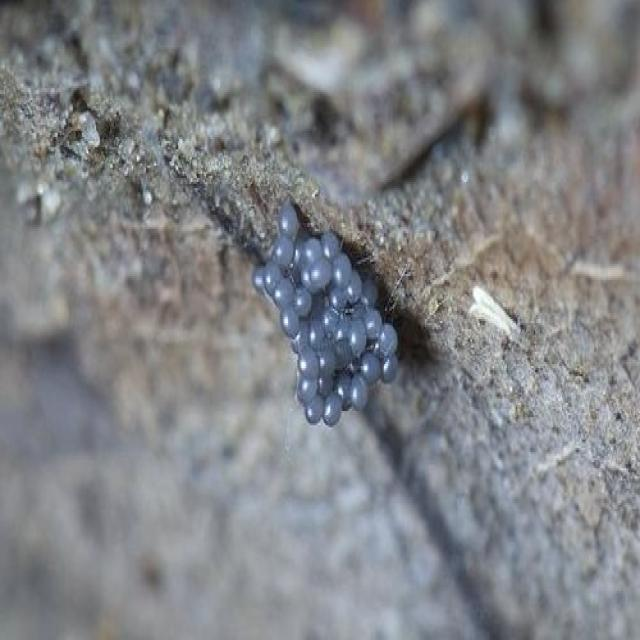army worm: (244, 199, 404, 430)
